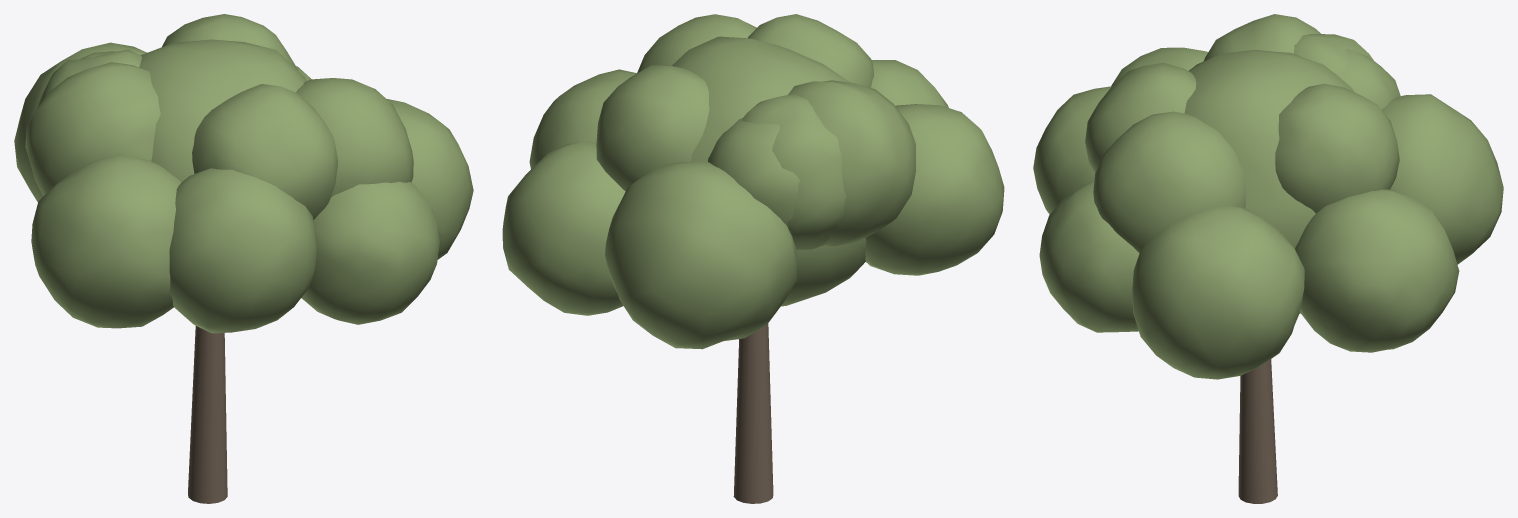
The model's file is NPR_07_0001__MOD__VegetationElements__Trees__AppleTree__Var-01__.glb.
The picture shows the model from 3 angles, left to right: view 1: azimuth 30°, elevation 25°; view 2: azimuth 150°, elevation 25°; view 3: azimuth 270°, elevation 25°; orthographic projection. The views are drawn at different scales.
Visible parts, largest first — view 1: NPR_07_0001__MOD__VegetationElements__Trees__AppleTree__Var-; view 2: NPR_07_0001__MOD__VegetationElements__Trees__AppleTree__Var-; view 3: NPR_07_0001__MOD__VegetationElements__Trees__AppleTree__Var-.
Part boxes in pixels (x1,y1,x2,y2): NPR_07_0001__MOD__VegetationElements__Trees__AppleTree__Var-: (14, 14, 473, 503); NPR_07_0001__MOD__VegetationElements__Trees__AppleTree__Var-: (502, 14, 1004, 503); NPR_07_0001__MOD__VegetationElements__Trees__AppleTree__Var-: (1033, 14, 1503, 503).
Size of the model in its own units: 3.64 by 3.58 by 3.52.
